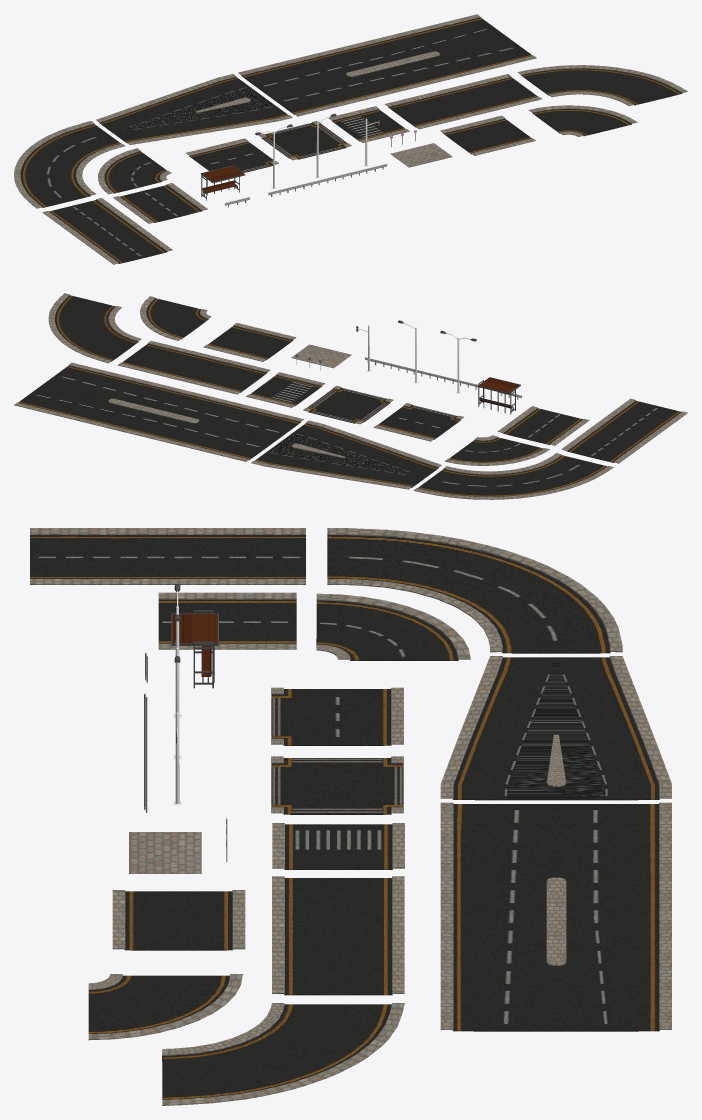
Rendered from roads_city.glb.
3 views of the same model, one above another, from view 1: azimuth 30°, elevation 25°; view 2: azimuth 150°, elevation 25°; view 3: azimuth 270°, elevation 25° (orthographic). The views are drawn at different scales.
Visible parts, largest first — view 1: 4in 2.007_6, 4in 2.006_5, 4in 2.001_0, 4in 2.009_9, 4in 2.008_8, 4in 2.002_1, 4in 2.010_10, 4in 2.012_17, 4in 2.013_22, 4in 2.011_11, 4in 2.004_3, 4in 2.003_2 (+5 smaller); view 2: 4in 2.007_6, 4in 2.006_5, 4in 2.001_0, 4in 2.008_8, 4in 2.002_1, 4in 2.009_9, 4in 2.012_17, 4in 2.013_22, 4in 2.010_10, 4in 2.011_11, 4in 2.004_3, 4in 2.003_2 (+5 smaller); view 3: 4in 2.007_6, 4in 2.006_5, 4in 2.001_0, 4in 2.002_1, 4in 2.008_8, 4in 2.009_9, 4in 2.011_11, 4in 2.012_17, 4in 2.010_10, 4in 2.003_2, 4in 2.004_3, 4in 2.013_22 (+4 smaller).
Part boxes in pixels (bbox=[...]): 4in 2.007_6: bbox=[238, 14, 536, 116]; 4in 2.006_5: bbox=[96, 74, 292, 144]; 4in 2.001_0: bbox=[14, 121, 124, 208]; 4in 2.009_9: bbox=[518, 65, 687, 105]; 4in 2.008_8: bbox=[385, 74, 541, 129]; 4in 2.002_1: bbox=[42, 198, 172, 264]; 4in 2.010_10: bbox=[529, 105, 637, 136]; 4in 2.012_17: bbox=[440, 115, 535, 155]; 4in 2.013_22: bbox=[113, 183, 207, 223]; 4in 2.011_11: bbox=[98, 148, 171, 194]; 4in 2.004_3: bbox=[258, 120, 351, 160]; 4in 2.003_2: bbox=[186, 138, 278, 172]; 4in 2.007_6: bbox=[14, 362, 303, 461]; 4in 2.006_5: bbox=[251, 420, 441, 489]; 4in 2.001_0: bbox=[413, 453, 613, 499]; 4in 2.008_8: bbox=[118, 340, 270, 394]; 4in 2.002_1: bbox=[561, 398, 687, 463]; 4in 2.009_9: bbox=[48, 293, 141, 363]; 4in 2.012_17: bbox=[203, 323, 296, 361]; 4in 2.013_22: bbox=[498, 406, 589, 445]; 4in 2.010_10: bbox=[140, 296, 211, 340]; 4in 2.011_11: bbox=[444, 435, 549, 465]; 4in 2.004_3: bbox=[303, 385, 393, 424]; 4in 2.003_2: bbox=[373, 403, 463, 441]; 4in 2.007_6: bbox=[440, 802, 671, 1031]; 4in 2.006_5: bbox=[440, 656, 671, 800]; 4in 2.001_0: bbox=[327, 528, 622, 653]; 4in 2.002_1: bbox=[30, 528, 305, 584]; 4in 2.008_8: bbox=[272, 876, 404, 995]; 4in 2.009_9: bbox=[162, 1003, 404, 1105]; 4in 2.011_11: bbox=[316, 593, 470, 660]; 4in 2.012_17: bbox=[112, 890, 245, 950]; 4in 2.010_10: bbox=[88, 974, 242, 1040]; 4in 2.003_2: bbox=[271, 687, 403, 745]; 4in 2.004_3: bbox=[271, 756, 403, 814]; 4in 2.013_22: bbox=[158, 592, 296, 649].
Bounding box in the file's own units: 27.79 × 2.65 × 13.08.
Materials: 9 (8 with a texture image).
